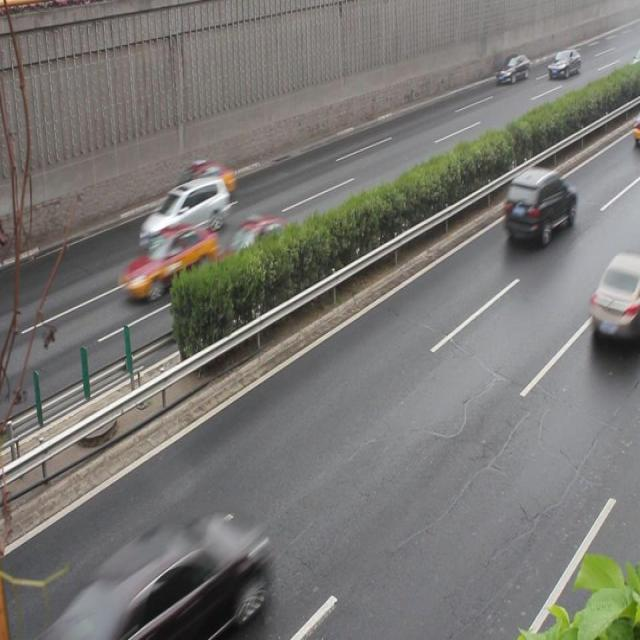car: (71, 521, 266, 632), (208, 214, 303, 292), (118, 226, 217, 298), (139, 176, 229, 248), (501, 170, 573, 244), (586, 252, 640, 347), (160, 160, 234, 207)
